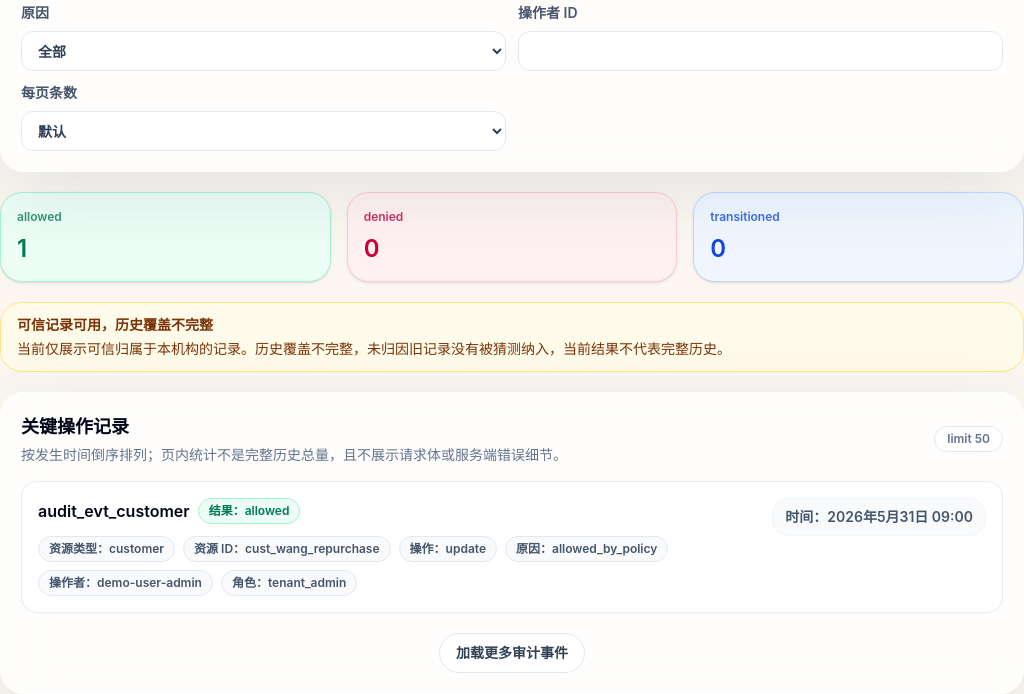
机构业务页面壳 › 审计日志 append 权威空页时保留已验证记录
(page scrolled)
Expected: the text "audit_evt_customer" is shown, [38, 499, 190, 523]
Click the button "加载更多审计事件" at (512,653), box [439, 633, 585, 673]
(page scrolled)
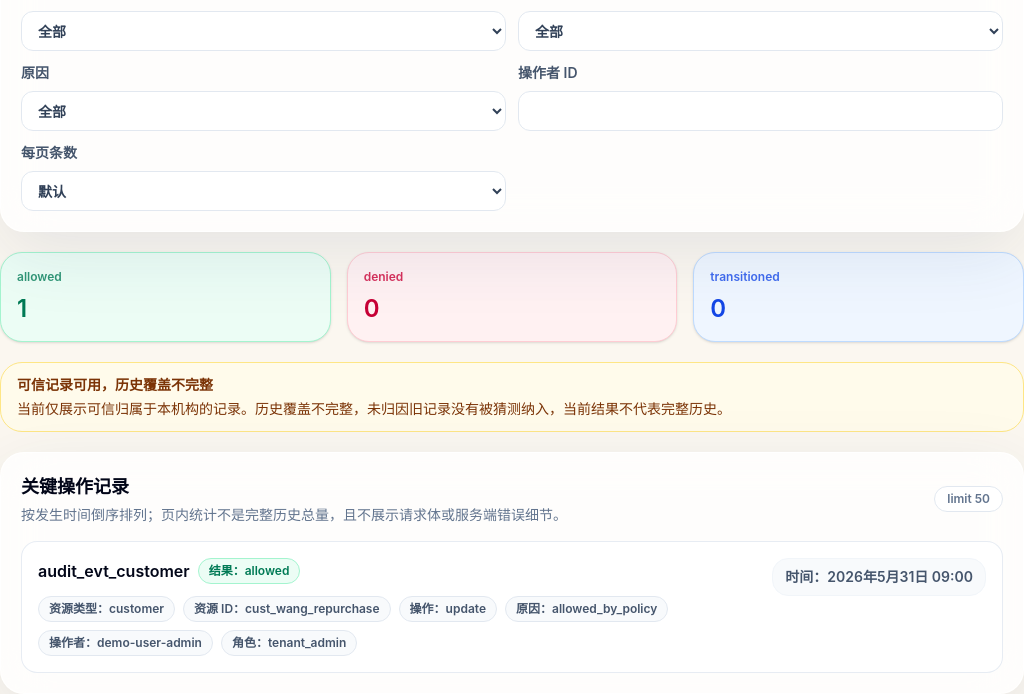
Expected: the text "audit_evt_customer" is shown, [38, 559, 190, 583]
Result: the button "加载更多审计事件" is gone
